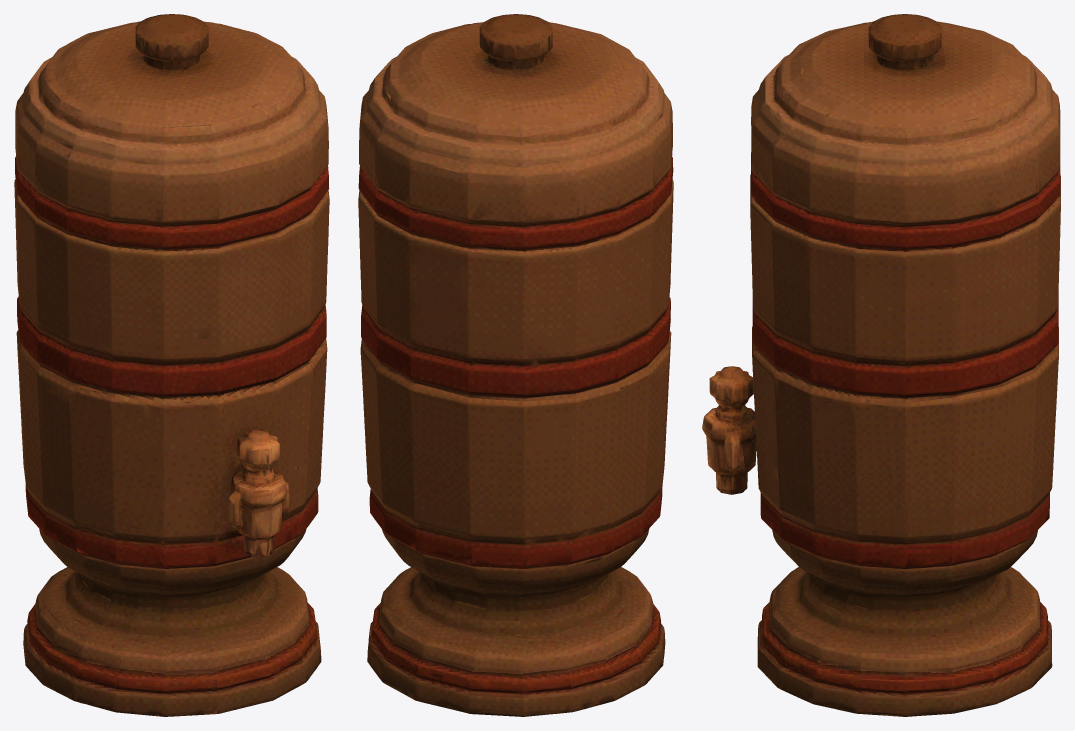
File: clay_filter_psx.glb
The picture shows the model from 3 angles, left to right: view 1: azimuth 30°, elevation 25°; view 2: azimuth 150°, elevation 25°; view 3: azimuth 270°, elevation 25°; orthographic projection.
Parts seen in each view (by area): view 1: filtro_barro; view 2: filtro_barro; view 3: filtro_barro.
Boxes of the visible parts, left/top/right/bottom form: filtro_barro: left=14, top=14, right=329, bottom=716; filtro_barro: left=358, top=14, right=673, bottom=716; filtro_barro: left=702, top=14, right=1060, bottom=716.
Bounding box in the file's own units: 0.4939 × 1.09 × 0.5588.
1 material, 1 textured.
